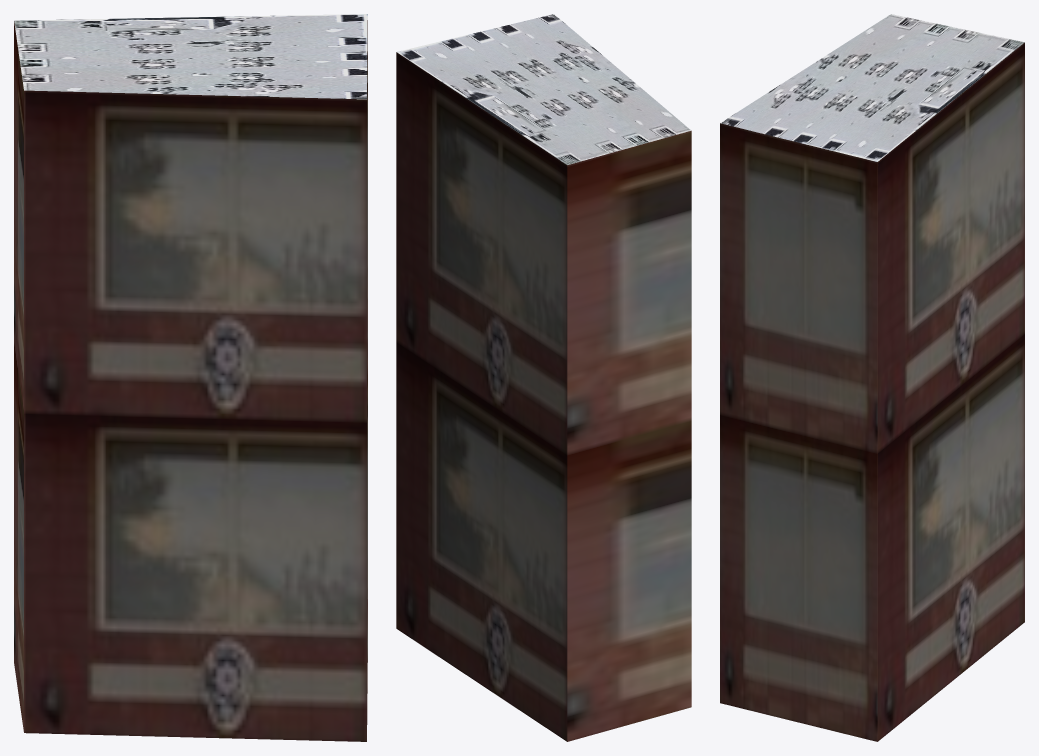
The model's file is ResTex__3888.fbx.
The picture shows the model from 3 angles, left to right: view 1: azimuth 30°, elevation 25°; view 2: azimuth 150°, elevation 25°; view 3: azimuth 270°, elevation 25°; orthographic projection. The views are drawn at different scales.
Visible parts, largest first — view 1: CityEngineMaterial_13_m, CityEngineMaterial_4_m; view 2: CityEngineMaterial_13_m, CityEngineMaterial_4_m; view 3: CityEngineMaterial_13_m, CityEngineMaterial_4_m.
Boxes of the visible parts, box(x1,y1,x2,y2) form: CityEngineMaterial_13_m: box(14, 20, 367, 741); CityEngineMaterial_4_m: box(14, 14, 367, 99); CityEngineMaterial_13_m: box(396, 52, 691, 741); CityEngineMaterial_4_m: box(397, 14, 690, 164); CityEngineMaterial_13_m: box(720, 42, 1024, 741); CityEngineMaterial_4_m: box(720, 14, 1024, 161).
Size of the model in its own units: 3.29 by 6 by 2.86.
Materials: 2 (2 with a texture image).
